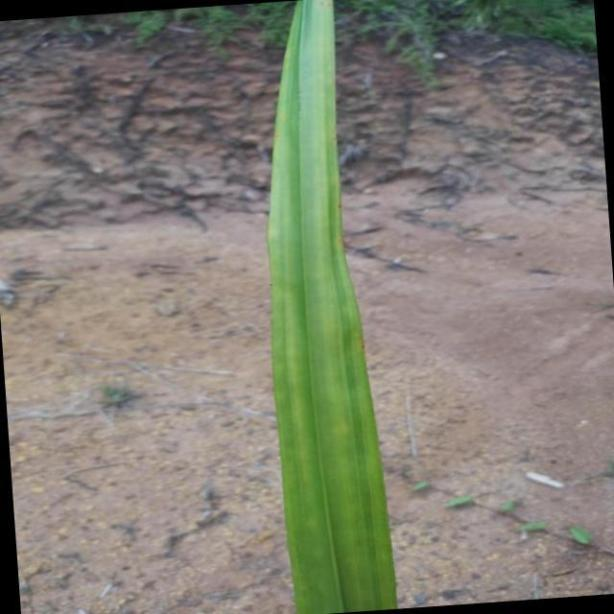nitrogen: (265, 0, 400, 614)
